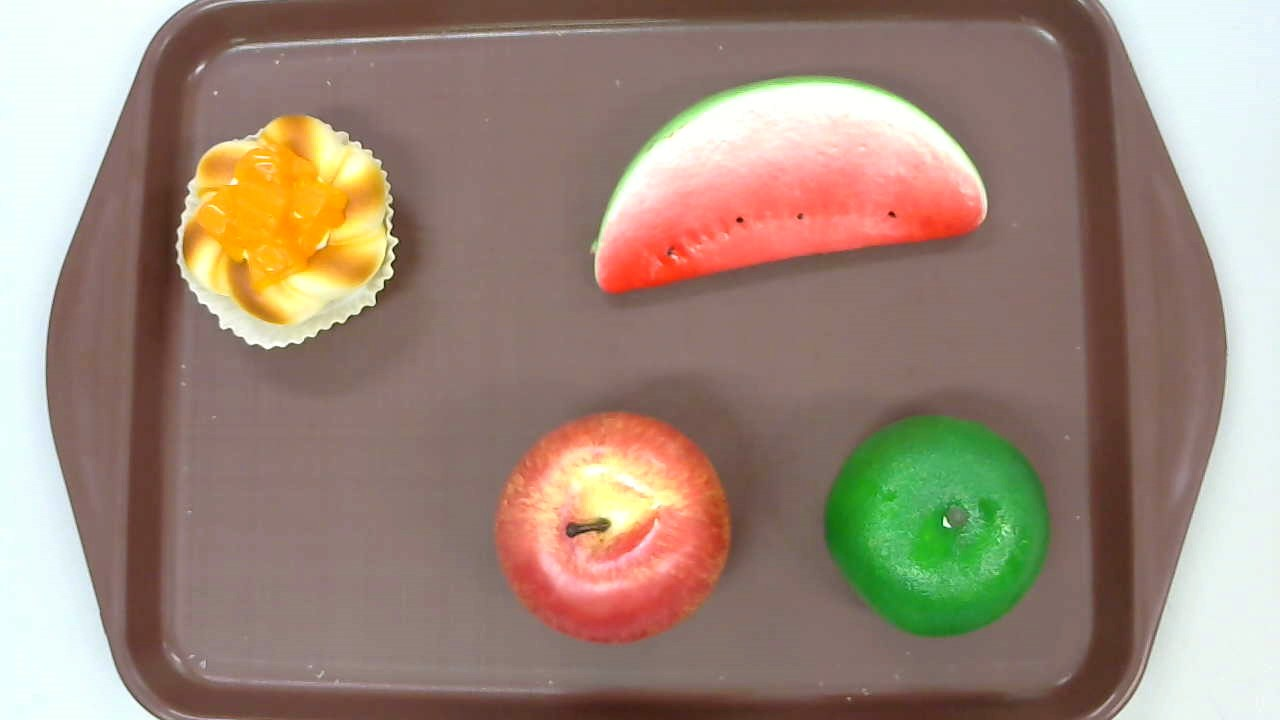green orange: (824, 414, 1051, 639)
mango tart: (174, 113, 399, 350)
red apple: (492, 409, 732, 646)
water melon: (588, 75, 988, 296)
